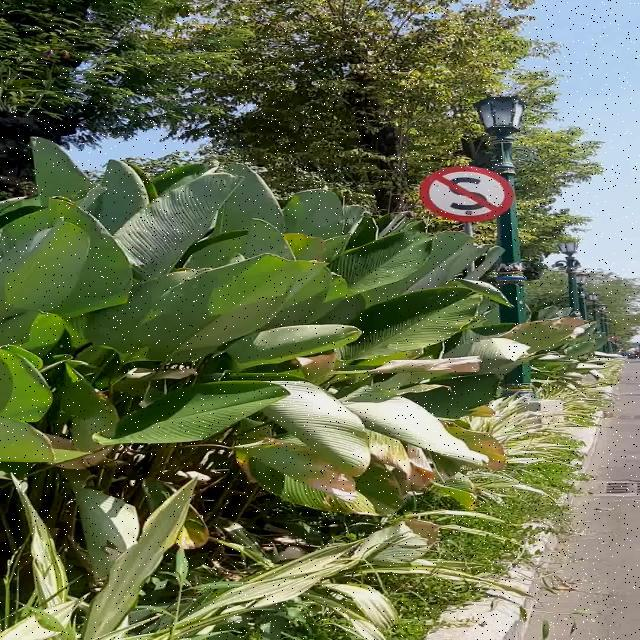Dilarang Berhenti: (419, 166, 514, 222)
